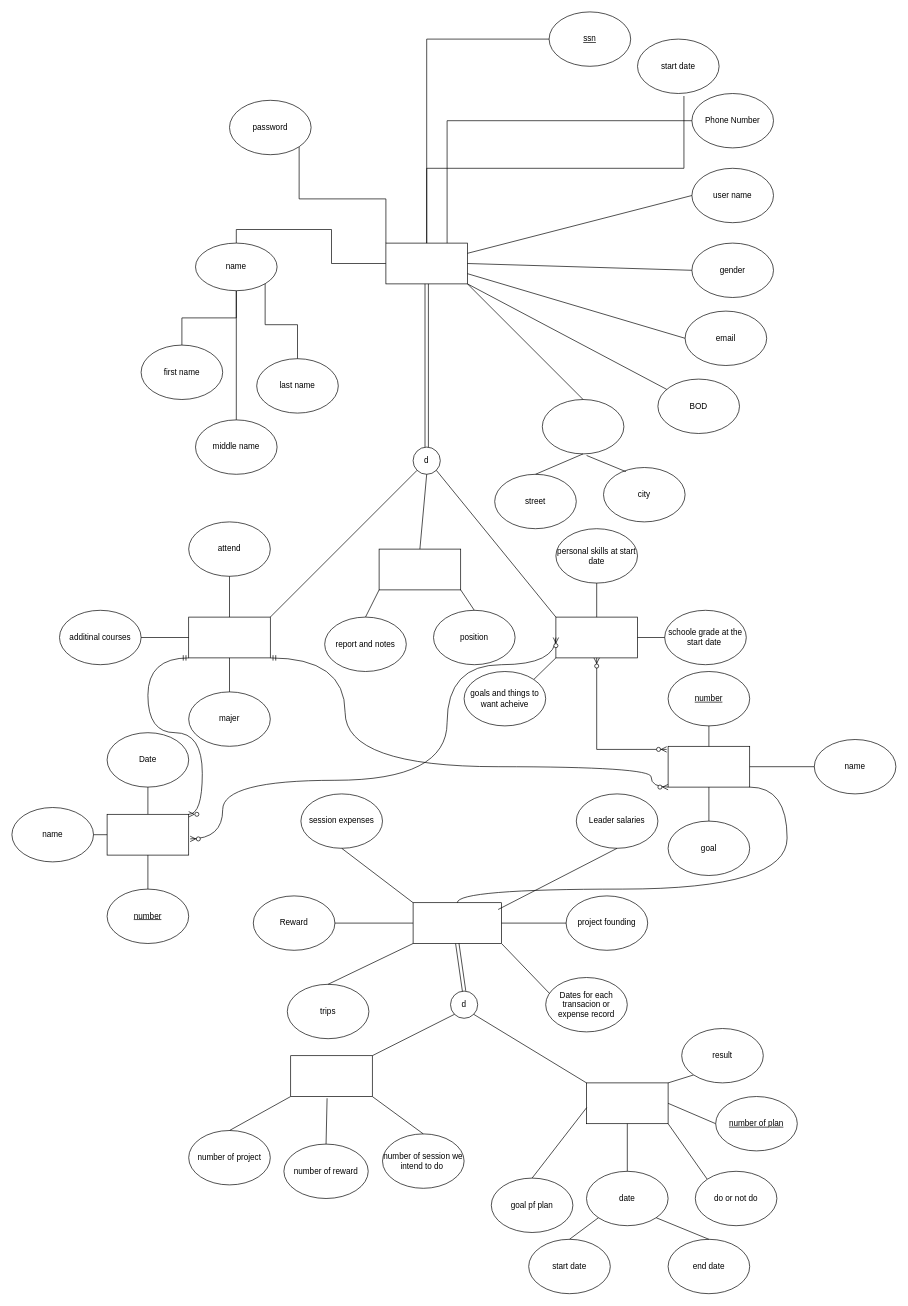
This 908x1306 diagram has some shape labels left out. The shapes that lost their labels are listed below. From the top down, each one's box as (x1, y1, x2, y2) in pixels, then its label:
(385, 242, 468, 284): person
(542, 399, 624, 454): address
(378, 548, 461, 590): mentor
(188, 616, 270, 658): leader
(555, 616, 638, 658): member
(667, 746, 750, 787): project
(106, 814, 189, 855): session
(412, 902, 502, 944): fanancial plan
(290, 1055, 372, 1096): yearly plan
(586, 1082, 668, 1124): plans
